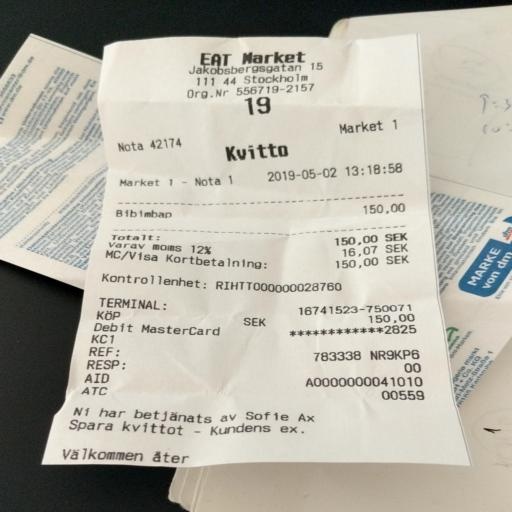paper: (41, 17, 482, 483)
